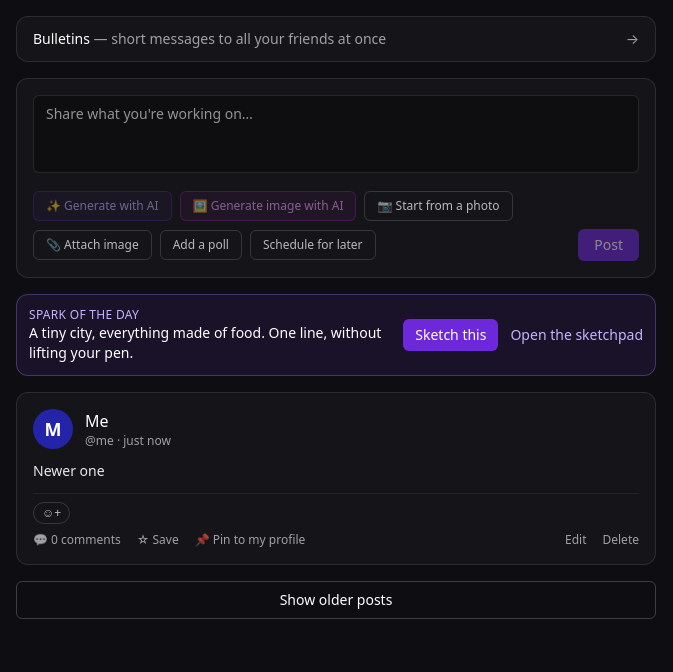
FeedPage › shows the message, keeping the posts, if older posts can't be loaded
This screenshot has width=673, height=672.
Click the button "Show older posts" at [336, 600], box [16,581,656,619]
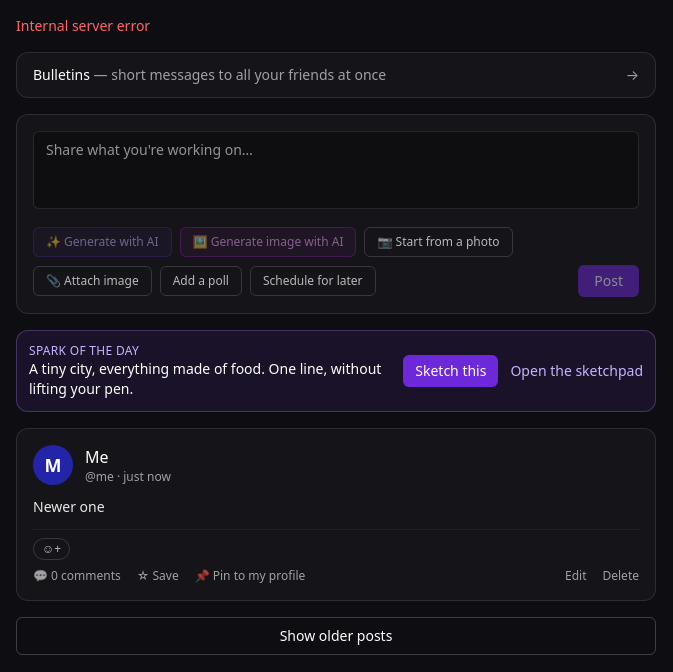
Expected: the text "Newer one" is shown, [33,497,105,516]
Result: the text "Internal server error" is shown at [16,16,150,35]
